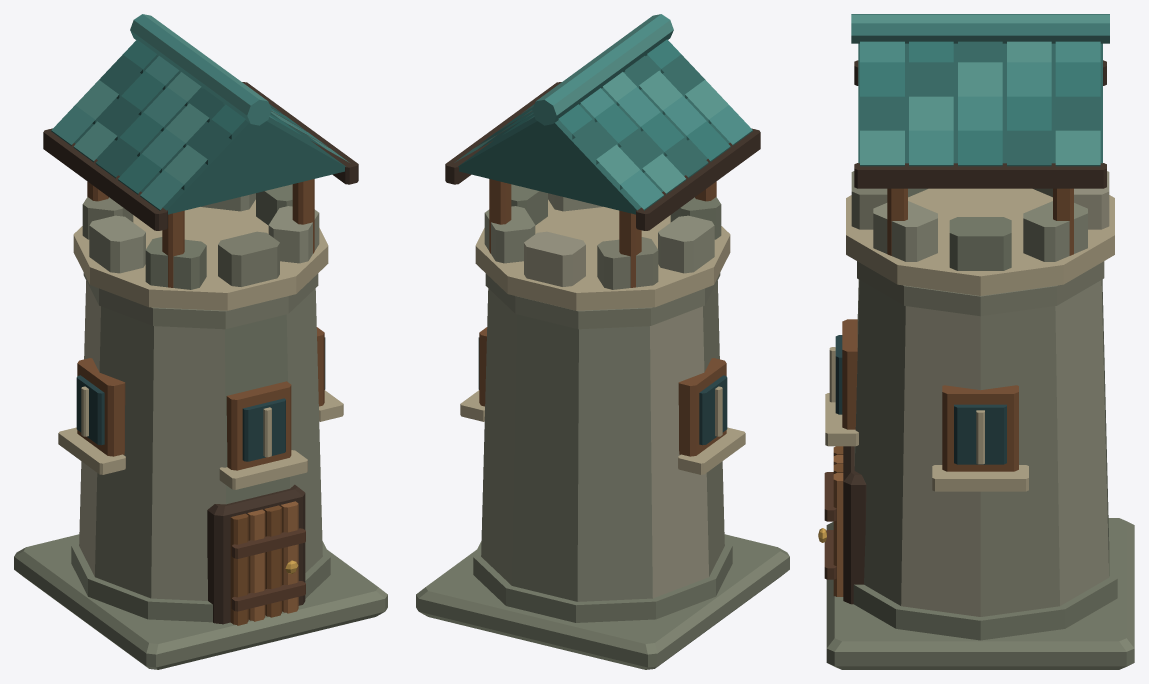
File: watchtower.glb
3 views of the same model, side by side, from view 1: azimuth 30°, elevation 25°; view 2: azimuth 150°, elevation 25°; view 3: azimuth 270°, elevation 25° (orthographic). The views are drawn at different scales.
Parts seen in each view (by area): view 1: Watchtower; view 2: Watchtower; view 3: Watchtower.
Boxes of the visible parts, left/top/right/bottom form: Watchtower: left=14, top=14, right=387, bottom=669; Watchtower: left=416, top=14, right=789, bottom=669; Watchtower: left=818, top=14, right=1134, bottom=669.
Size of the model in its own units: 1.57 by 3.32 by 1.6.
